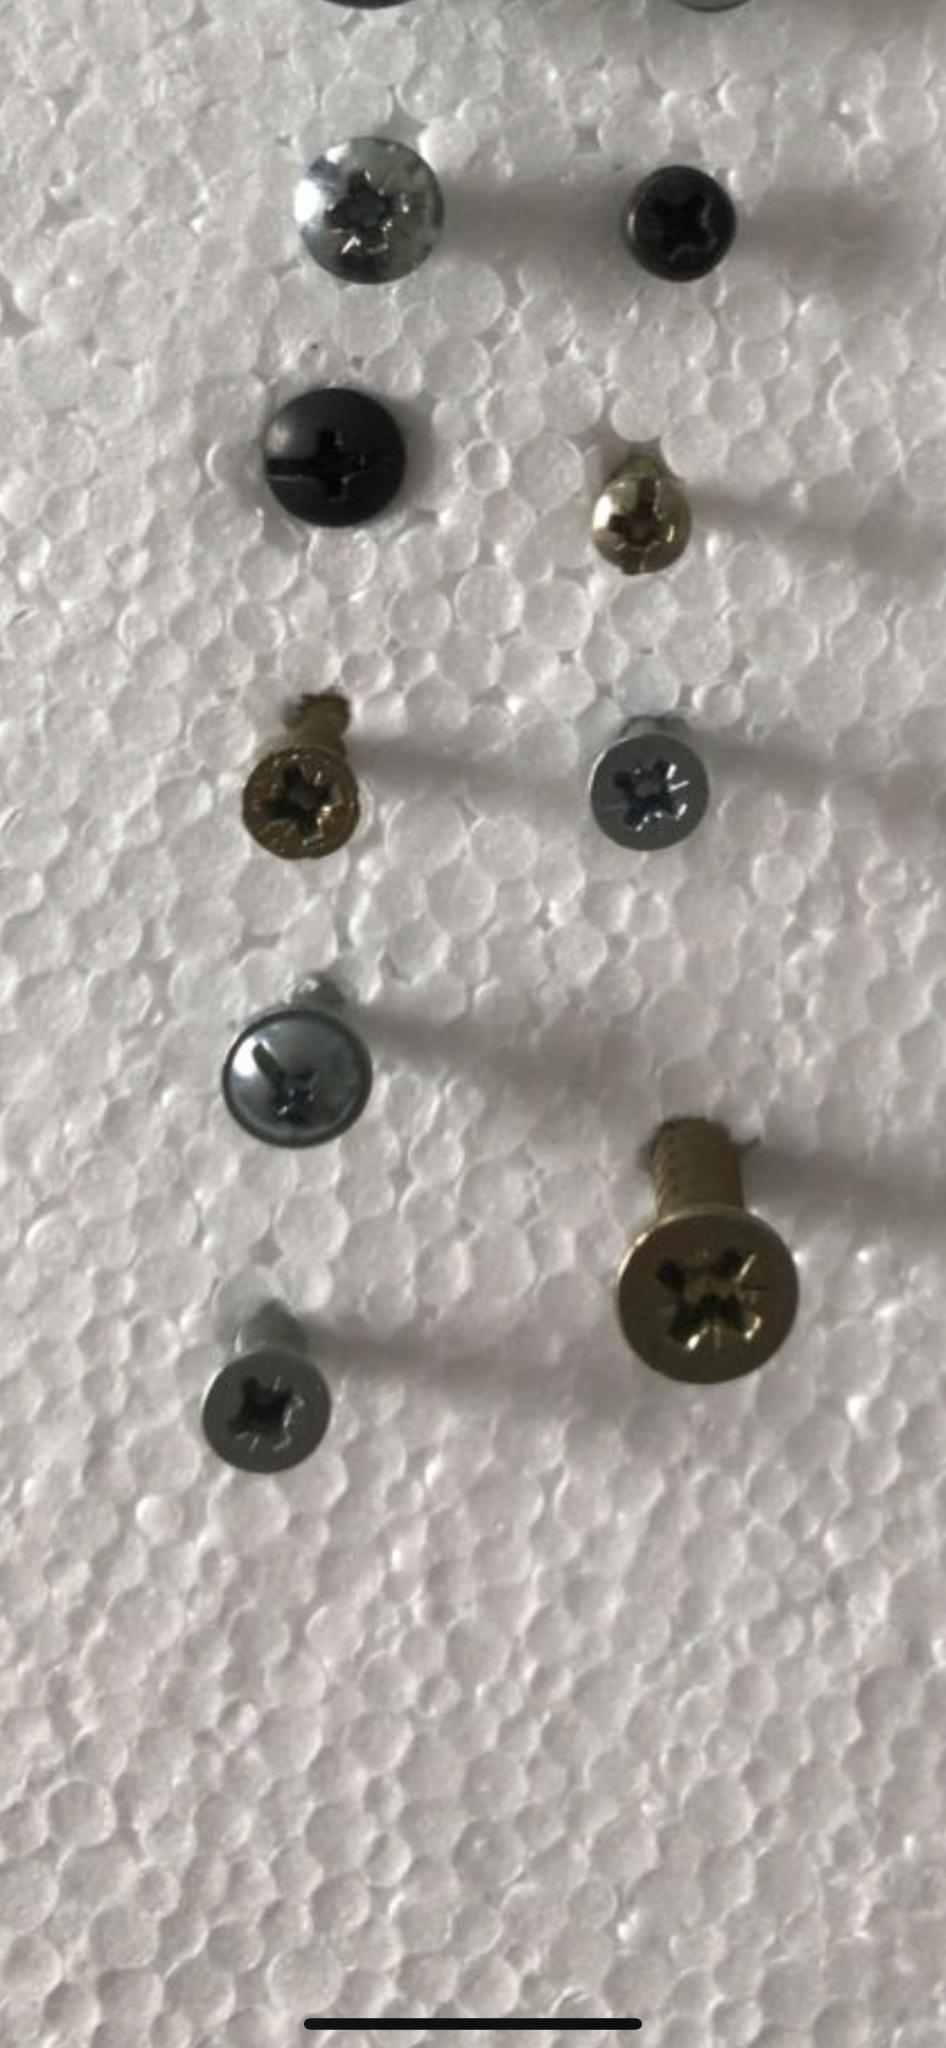PH: (615, 1204, 802, 1384), (291, 136, 442, 283), (220, 1014, 374, 1148), (263, 389, 408, 528), (203, 1352, 336, 1479), (587, 731, 715, 856), (238, 744, 363, 865), (628, 162, 743, 283), (587, 474, 695, 573)
